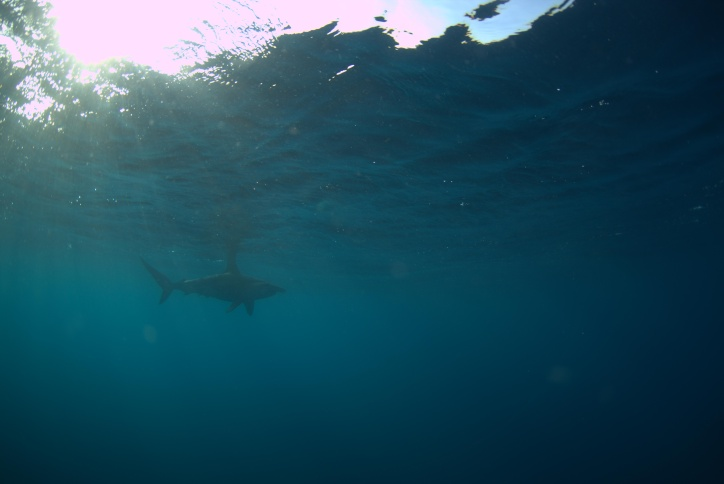Hammer: (125, 228, 323, 338)
